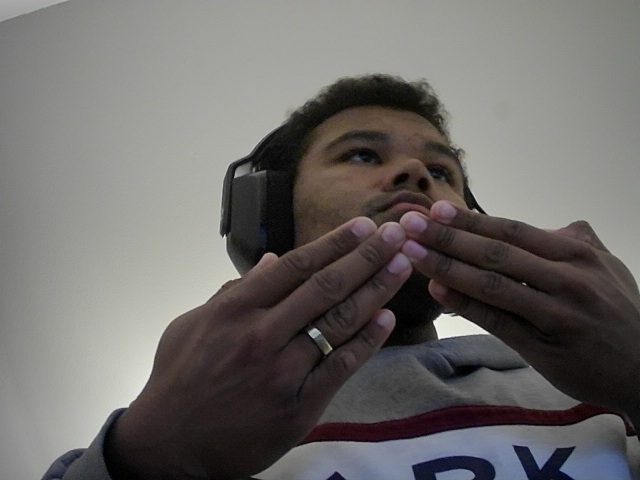ThankYou: (99, 195, 640, 479)
